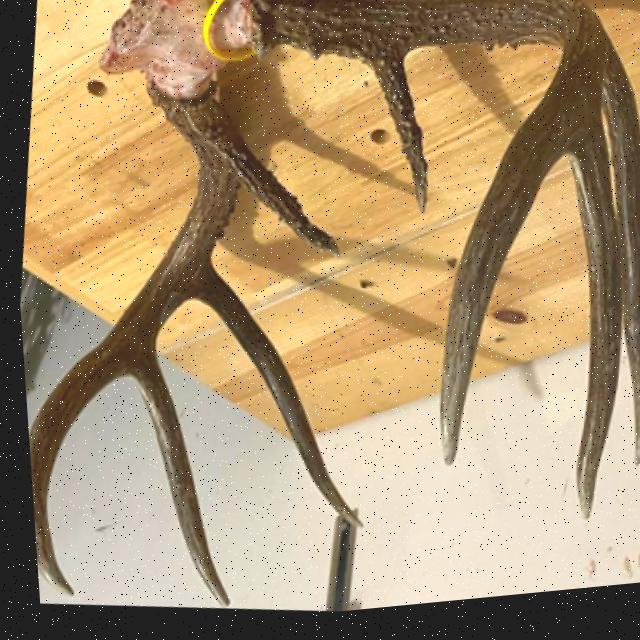L-F: (22, 74, 243, 600)
L-G1: (236, 151, 338, 266)
L-G2: (185, 262, 357, 537)
L-G3: (121, 343, 222, 612)
R-F: (246, 0, 606, 479)
R-G1: (360, 59, 429, 229)
R-G2: (600, 49, 640, 485)
R-G3: (559, 117, 615, 540)
